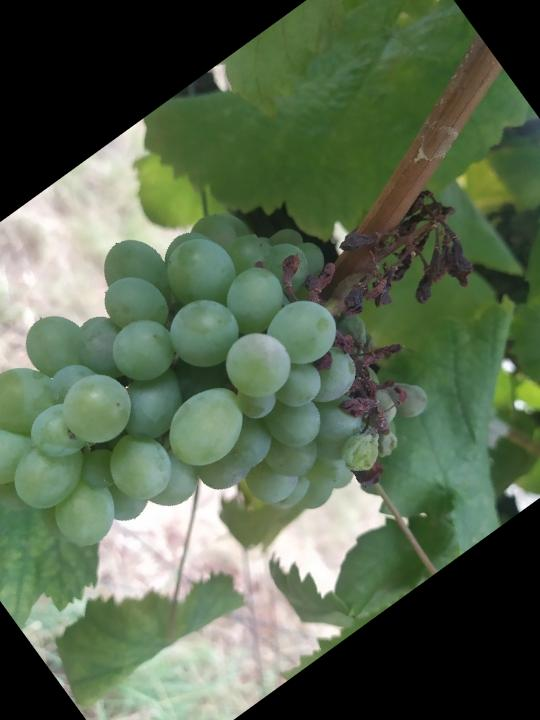grape: (0, 66, 540, 677)
